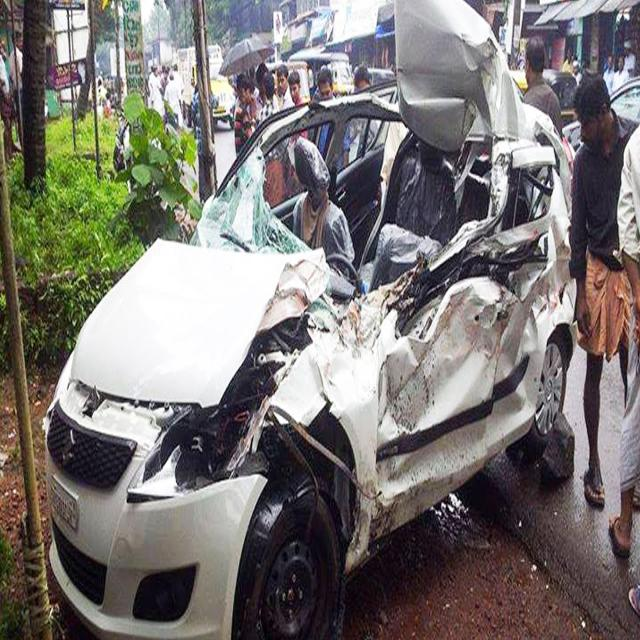accident: (45, 0, 574, 638)
